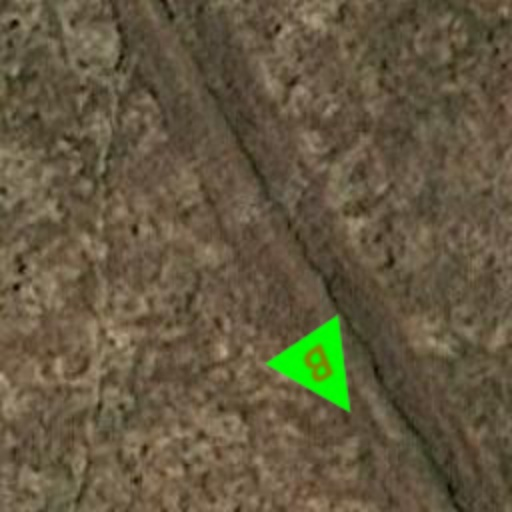triangle: (264, 314, 388, 438)
